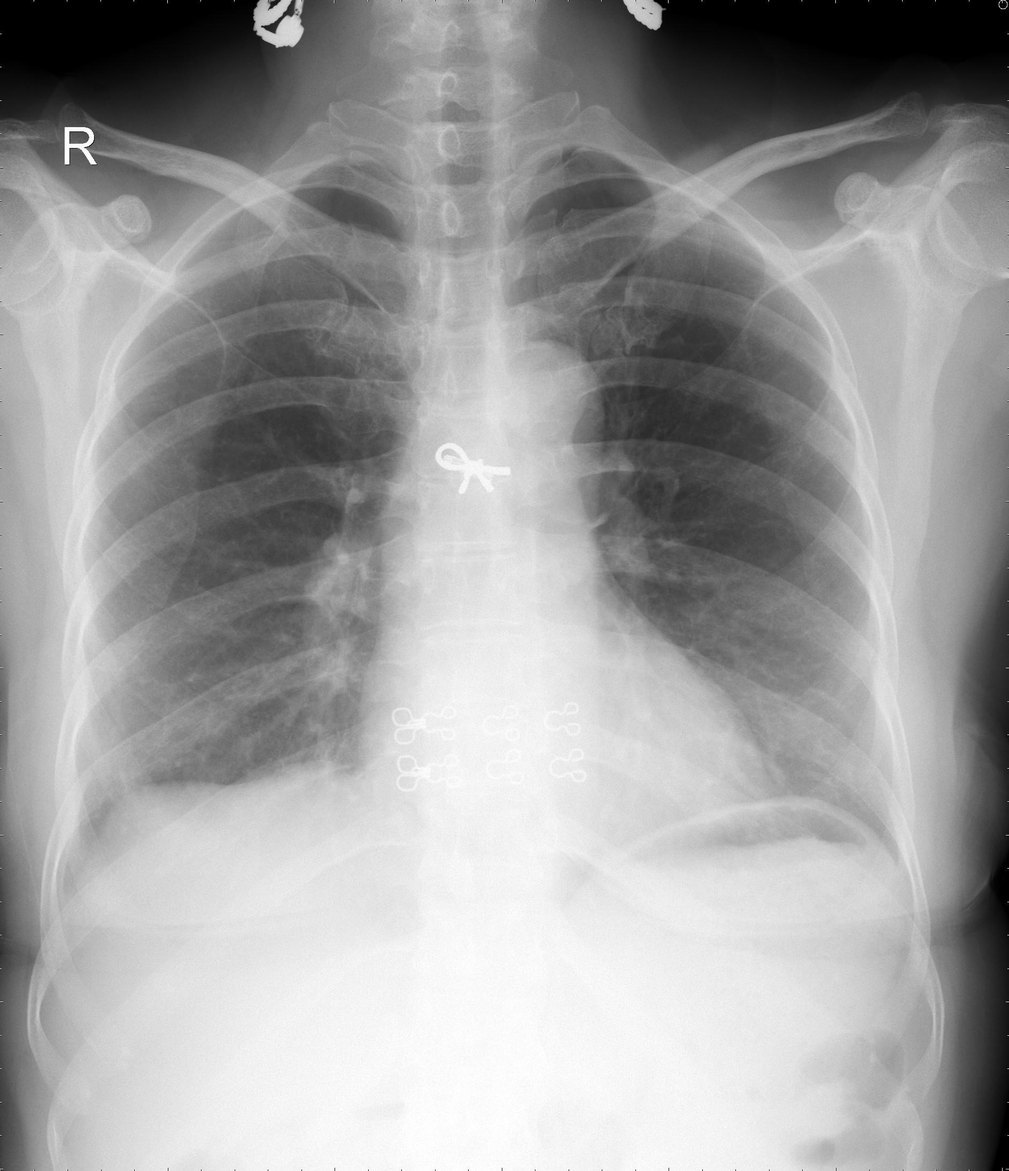Aortic enlargement: (478, 340, 607, 481)
Cardiomegaly: (352, 685, 773, 831)
Pleural thickening: (529, 176, 611, 232)
